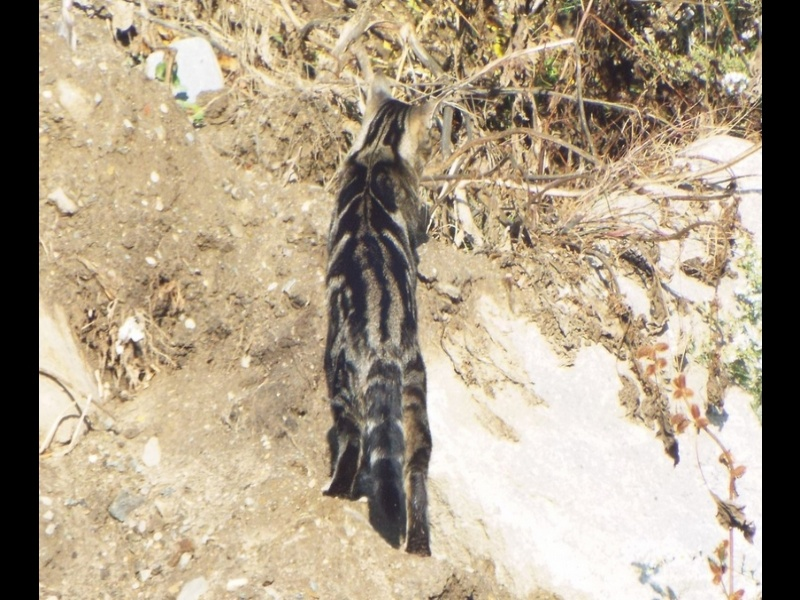cat: (318, 75, 441, 562)
